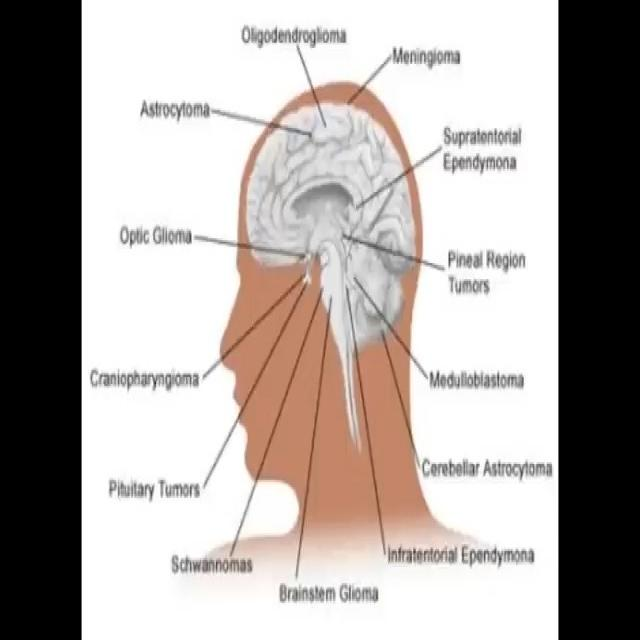tumor: (319, 160, 376, 283)
